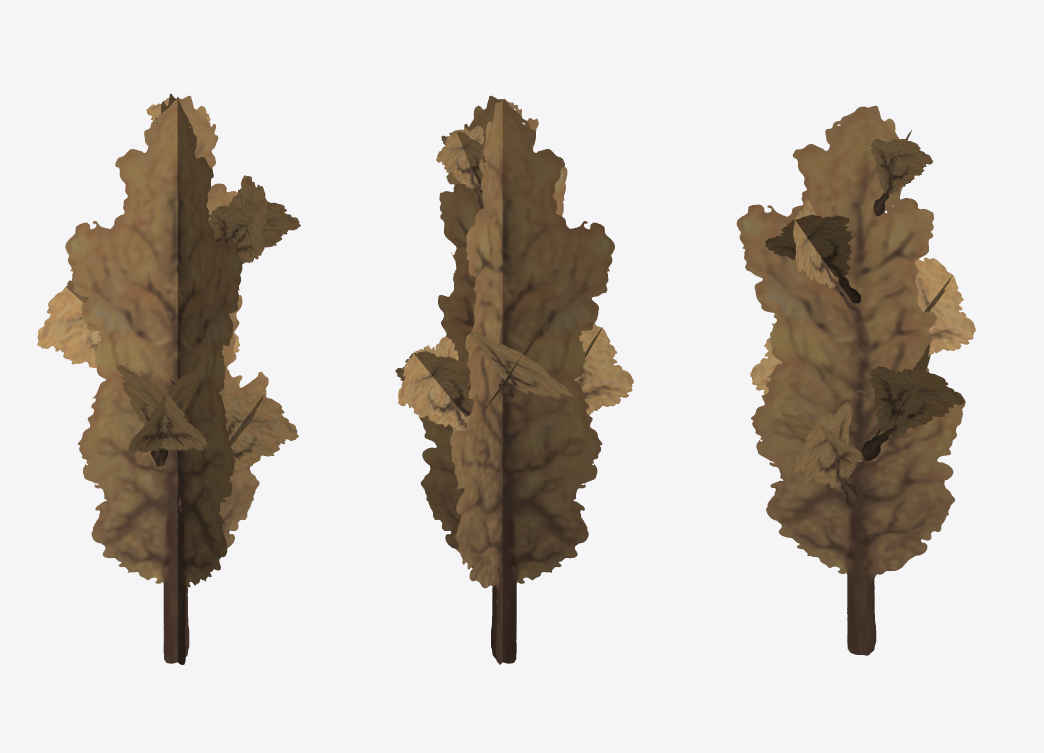
Rendered from mesh_Exterior_YellowTree.fbx.
3 renders of one model, left to right at view 1: azimuth 30°, elevation 25°; view 2: azimuth 150°, elevation 25°; view 3: azimuth 270°, elevation 25°, orthographic. The views are drawn at different scales.
Parts seen in each view (by area): view 1: Plane; view 2: Plane; view 3: Plane.
Boxes of the visible parts, x1,y1,x2,y2 form: Plane: (37, 93, 300, 664); Plane: (395, 95, 633, 664); Plane: (736, 105, 975, 655).
Bounding box in the file's own units: 200 × 386 × 200.
